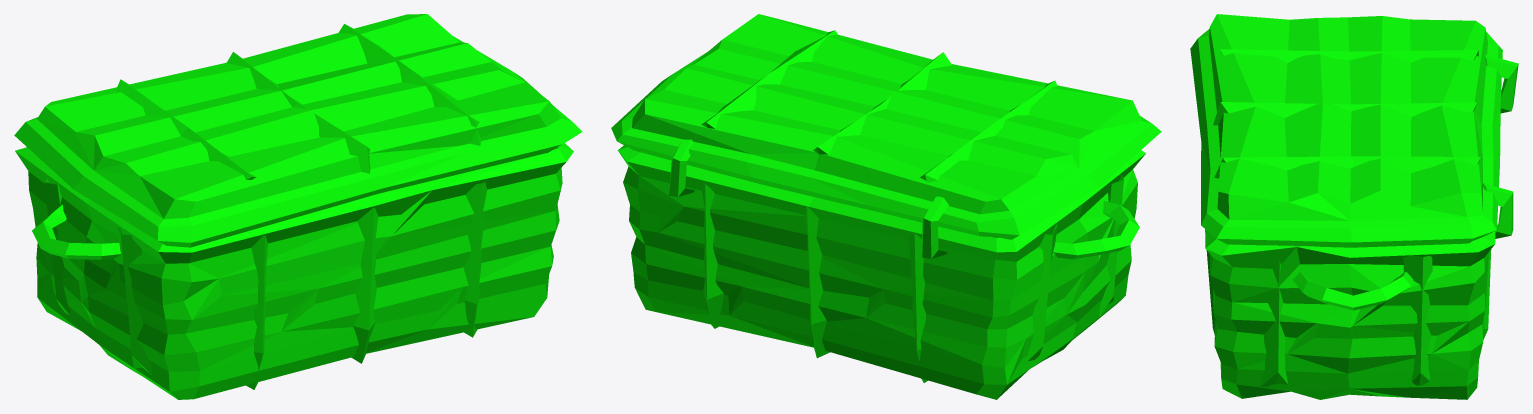
Rendered from SM_Chest_Basket_Fantasy.fbx.
The picture shows the model from 3 angles, left to right: view 1: azimuth 30°, elevation 25°; view 2: azimuth 150°, elevation 25°; view 3: azimuth 270°, elevation 25°; orthographic projection. The views are drawn at different scales.
Parts seen in each view (by area): view 1: chest-basket-fantasy-base, chest-basket-fantasy-lid; view 2: chest-basket-fantasy-base, chest-basket-fantasy-lid; view 3: chest-basket-fantasy-lid, chest-basket-fantasy-base.
Part boxes in pixels (bbox=[...]): chest-basket-fantasy-base: bbox=[15, 143, 573, 399]; chest-basket-fantasy-lid: bbox=[14, 14, 582, 247]; chest-basket-fantasy-base: bbox=[617, 139, 1145, 399]; chest-basket-fantasy-lid: bbox=[611, 14, 1161, 239]; chest-basket-fantasy-lid: bbox=[1190, 14, 1502, 247]; chest-basket-fantasy-base: bbox=[1205, 54, 1518, 399].
Size of the model in its own units: 1.28 by 0.5265 by 0.7283.
